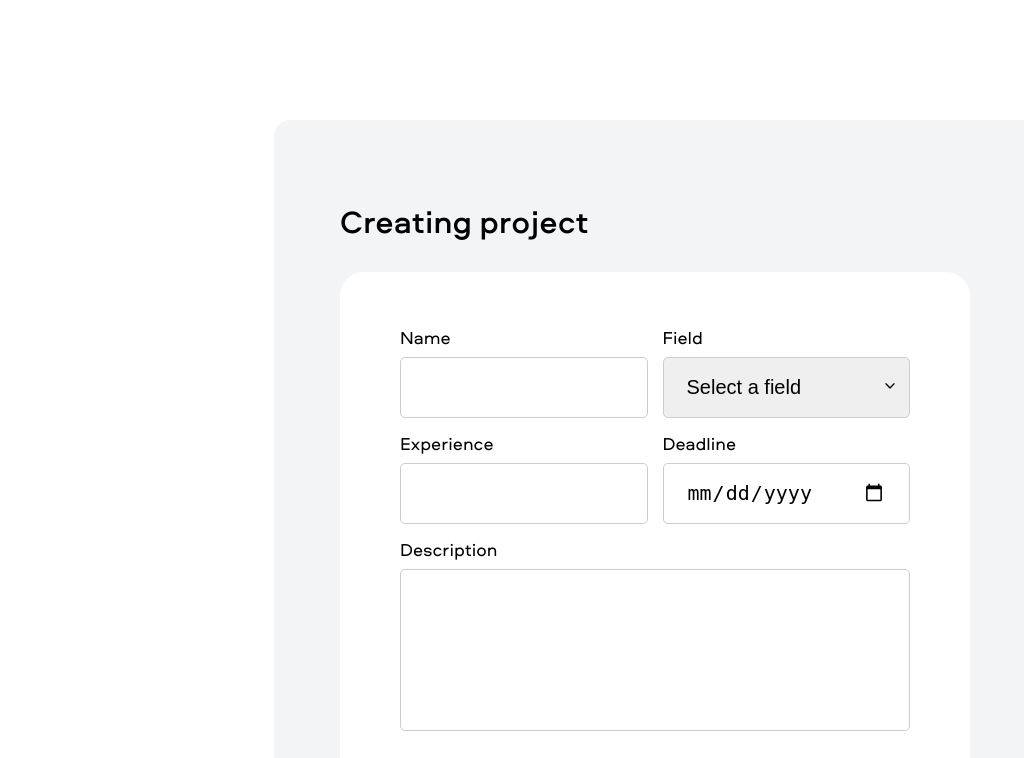
ProjectCreatePage Component › should display error message if createProject fails
Type "Awesome New Project" into the field labelled "Name". click: {"x": 524, "y": 387}
box: [400, 356, 648, 418]
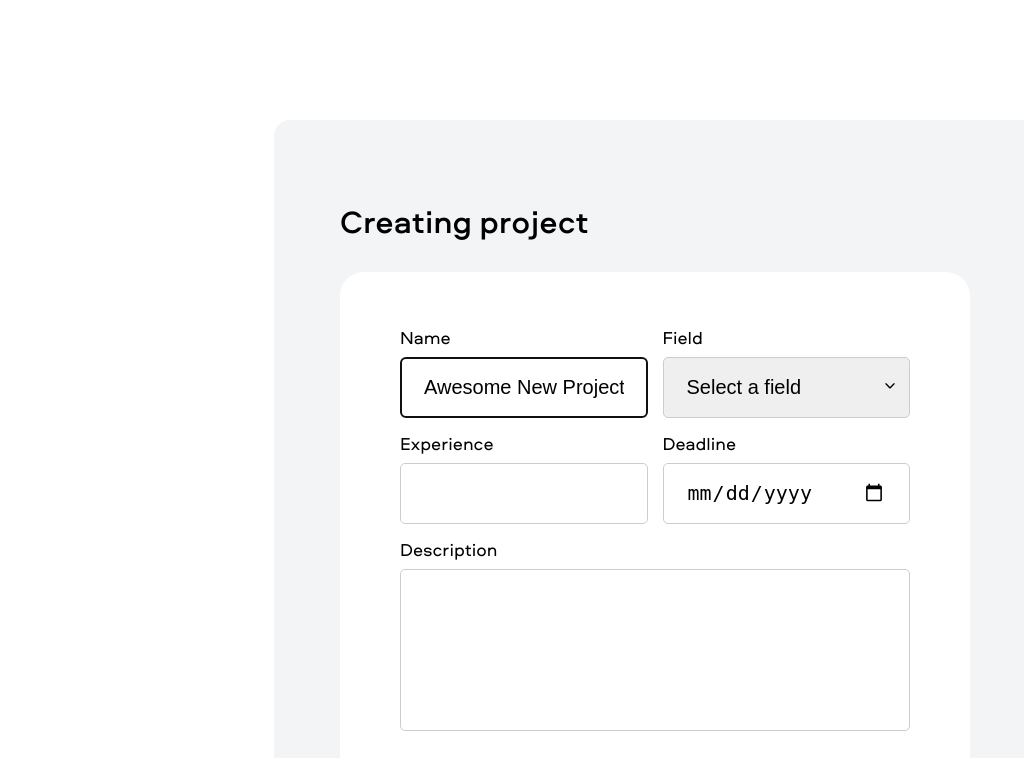
Type "2025-12-31" into the date field labelled "Deadline". click: {"x": 786, "y": 493}
box: [662, 462, 910, 524]
(page scrolled)
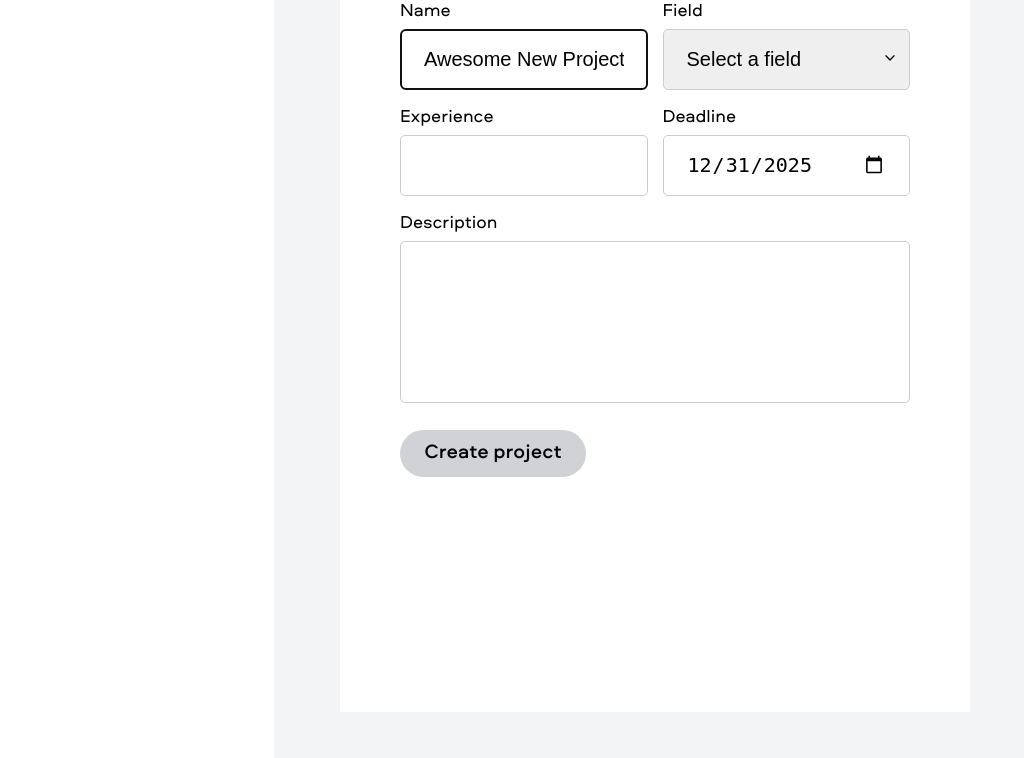
Click the button "Create project". click: {"x": 493, "y": 453}
box: [400, 430, 586, 476]
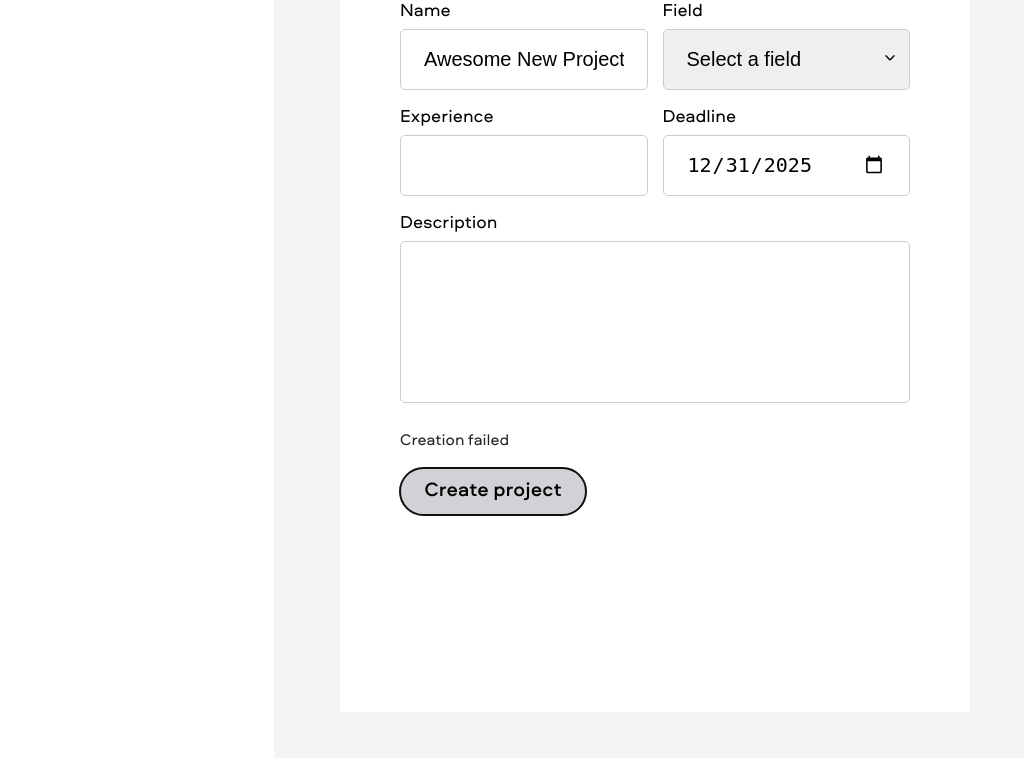
expect the button "Create project" is enabled: met, box [400, 468, 586, 514]
expect the text "Creation failed" is shown: met, box [400, 432, 509, 448]
